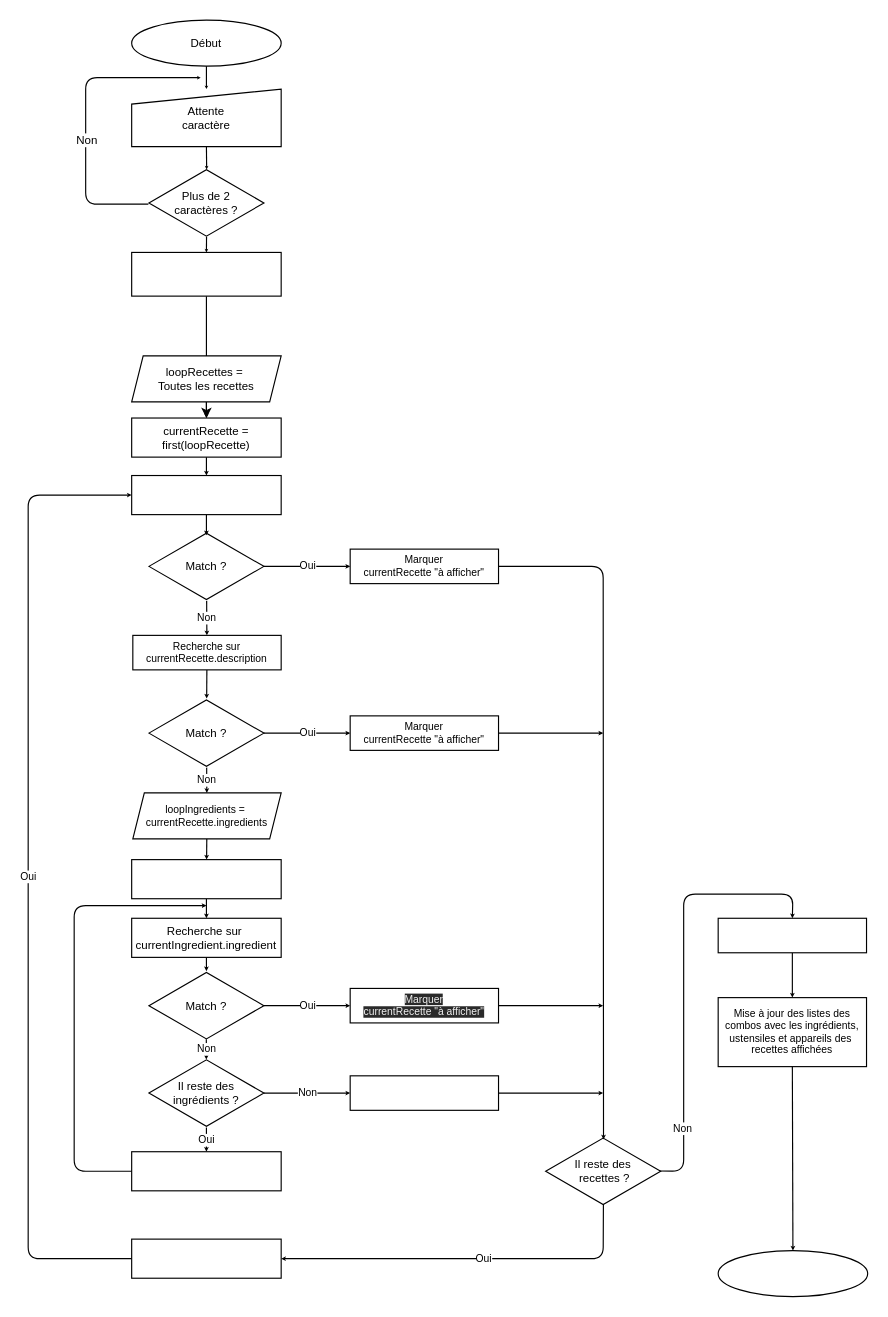
Image size: 888x1317. Some labels were removed from this diagram. Here are the shapes that lost their labels. From the top down, the centre of each, then its label:
point 206,273: Normalisation chaine de caracteres
point 206,494: Recherche sur currentRecette.titre
point 206,878: currentIngredient = first(loopIngredients)
point 792,935: Affichage des recettes marquées "à afficher"
point 424,1092: Marquer currentRecette "ne pas afficher"
point 206,1171: currentIngredient = next(loopIngredients)
point 206,1258: currentRecette = next(loopRecette)
point 792,1273: Fin
